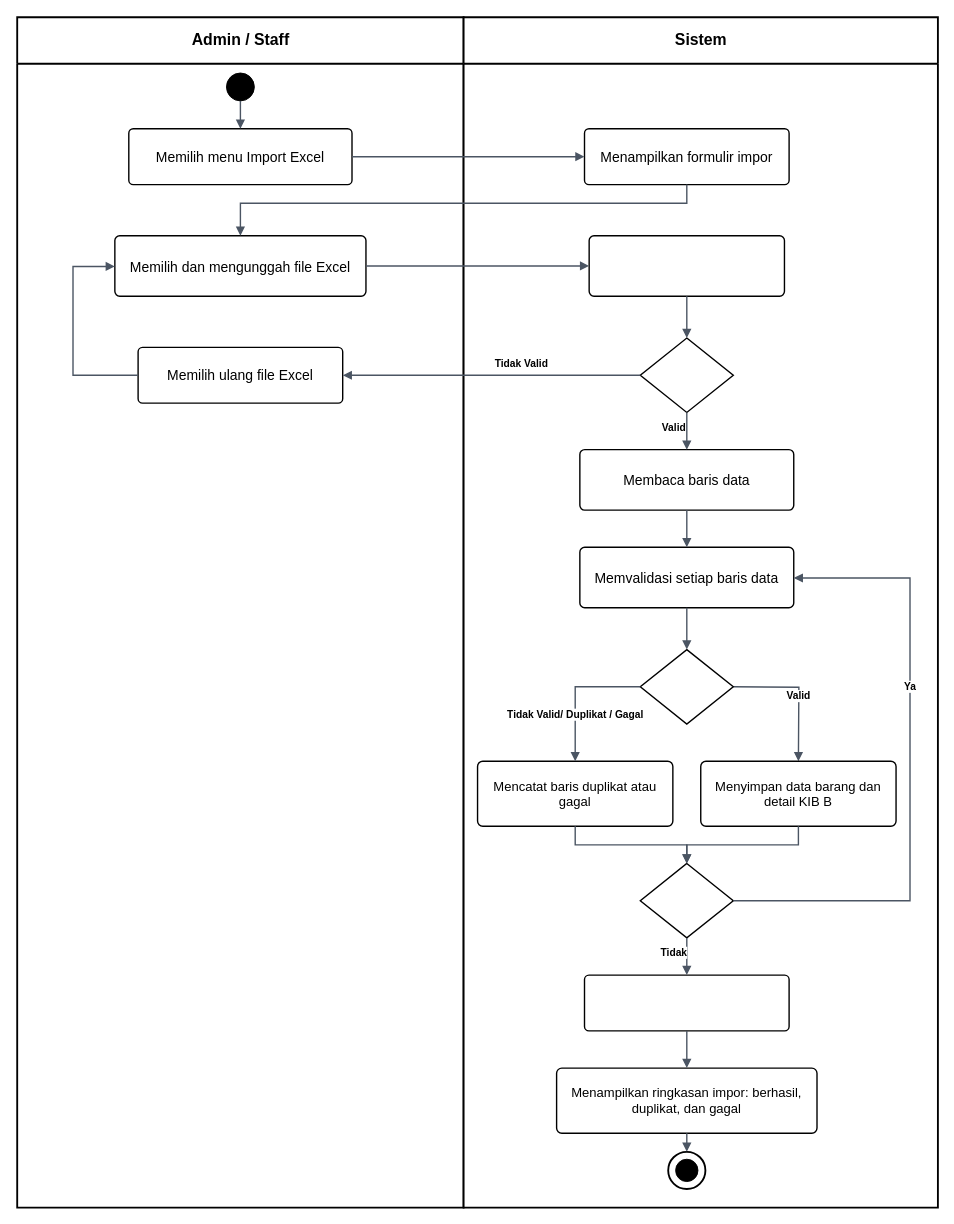
Some shapes in this 954 by 1224 pixel diagram are drawn without their labels. Each missing label, with the box of its shape:
Baris data valid?: (639, 648, 734, 724)
File valid?: (639, 337, 734, 413)
Masih ada baris data?: (639, 862, 734, 938)
Memvalidasi file Excel: (588, 235, 785, 296)
Menyimpan riwayat impor: (583, 974, 789, 1031)
